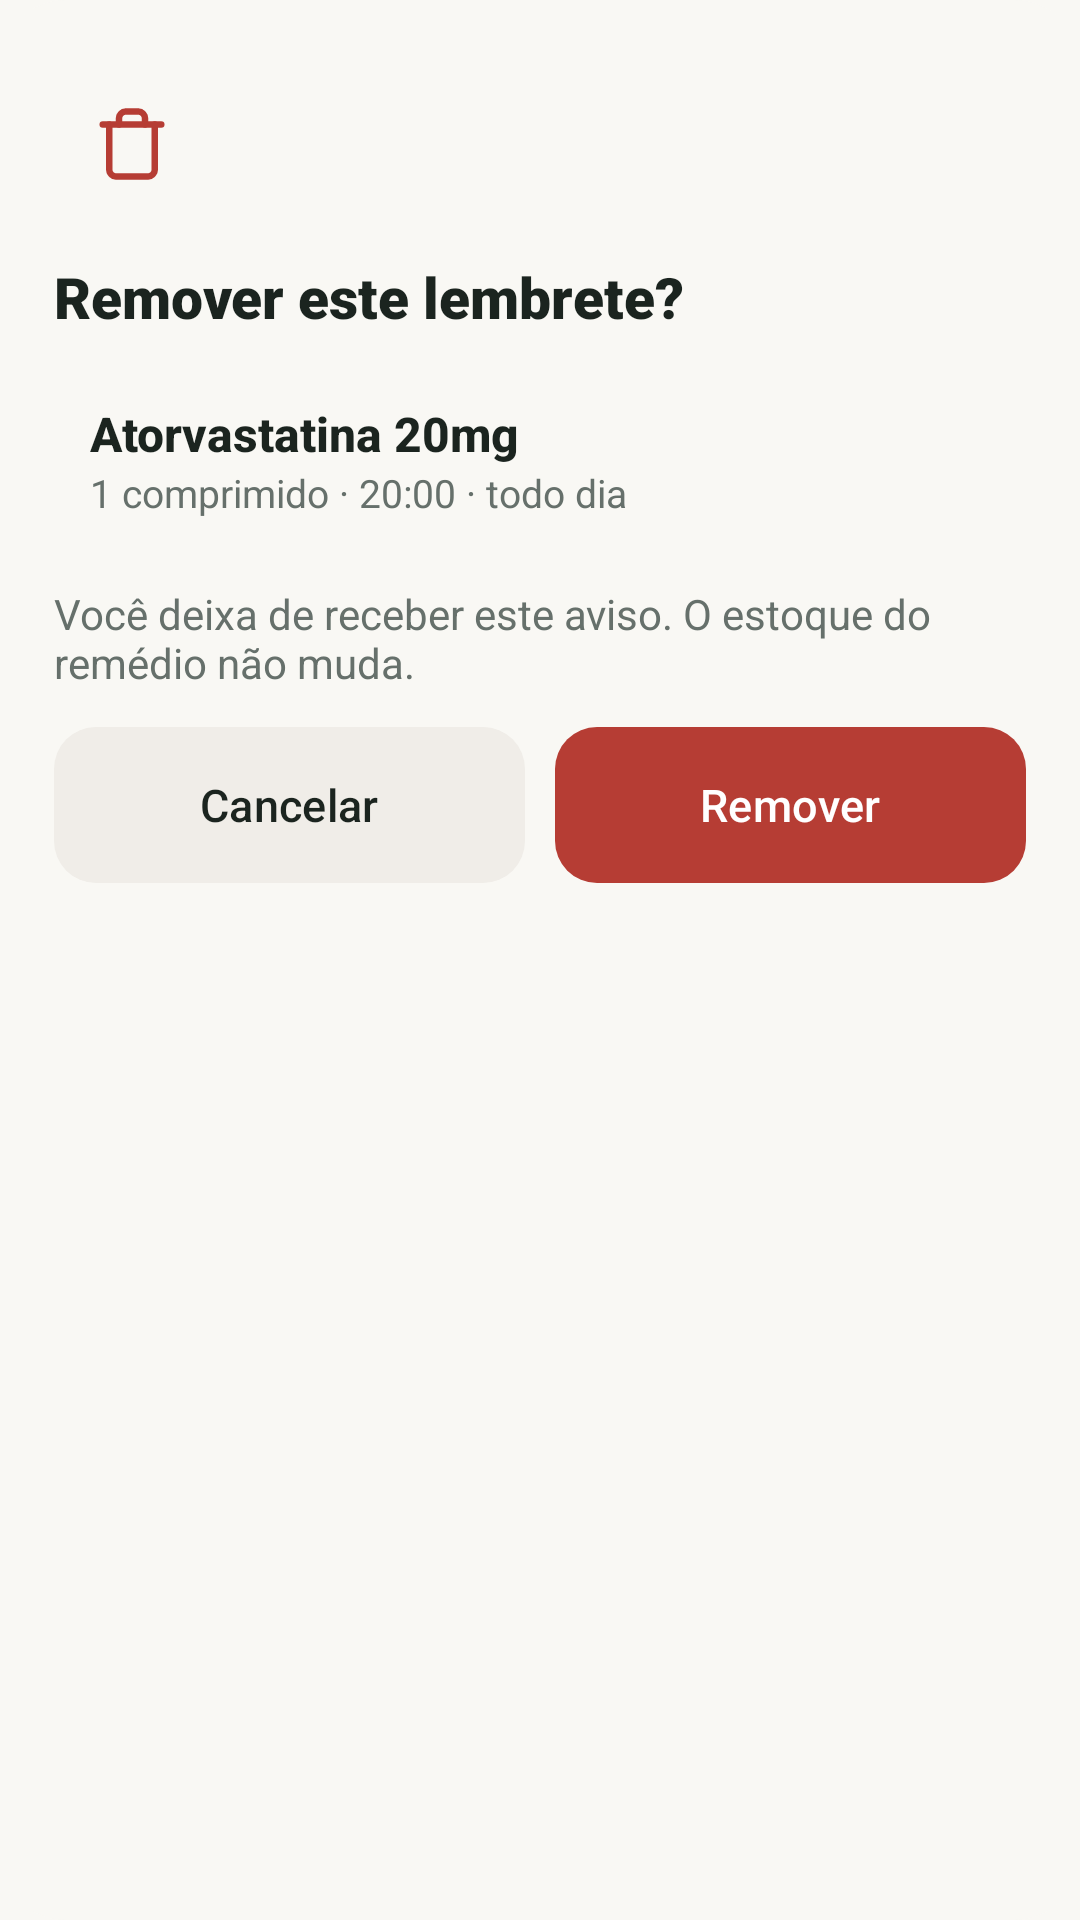

Icon bounding boxes for this 1080*1920 phone screenshot, format (x1, y1, x2, y2):
trash: (99, 108, 165, 180)
